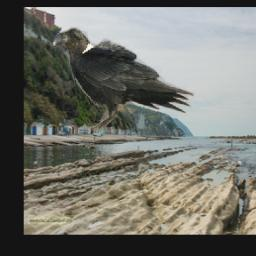Crow: (51, 26, 195, 132)
